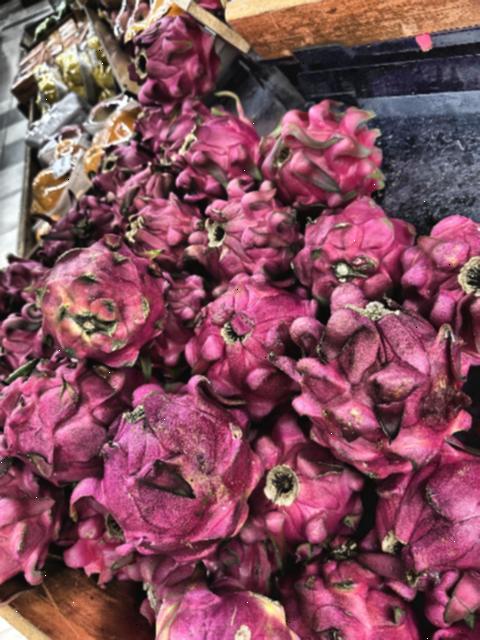buah-naga-belum-matang: (33, 245, 177, 363)
buah-naga-matang: (274, 286, 470, 468), (80, 392, 268, 554), (174, 278, 320, 412), (242, 416, 364, 564), (370, 454, 480, 616), (0, 352, 142, 473), (273, 536, 417, 640), (287, 188, 417, 300), (254, 99, 390, 205), (396, 204, 480, 370), (184, 189, 304, 281), (1, 452, 66, 600), (108, 18, 224, 100), (172, 104, 266, 198), (122, 198, 206, 268), (40, 202, 118, 248), (88, 144, 150, 188), (0, 260, 44, 314)
